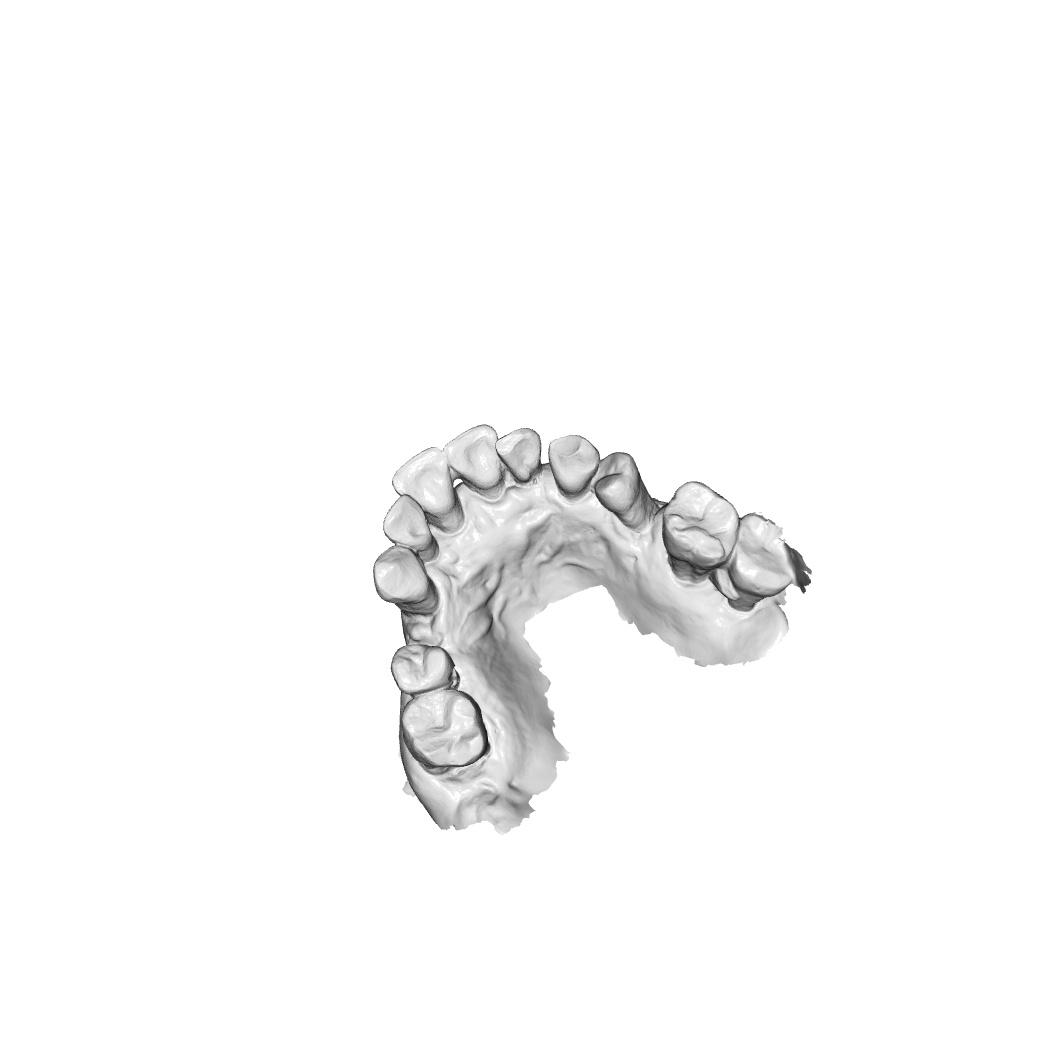canine: (372, 544, 440, 615), (547, 434, 600, 497)
incisor: (442, 422, 504, 499), (391, 445, 457, 516), (381, 493, 440, 563), (495, 427, 543, 483)
molar: (660, 480, 740, 583), (398, 687, 492, 770), (728, 511, 797, 613)
premolar: (592, 451, 658, 530), (390, 643, 461, 697)
